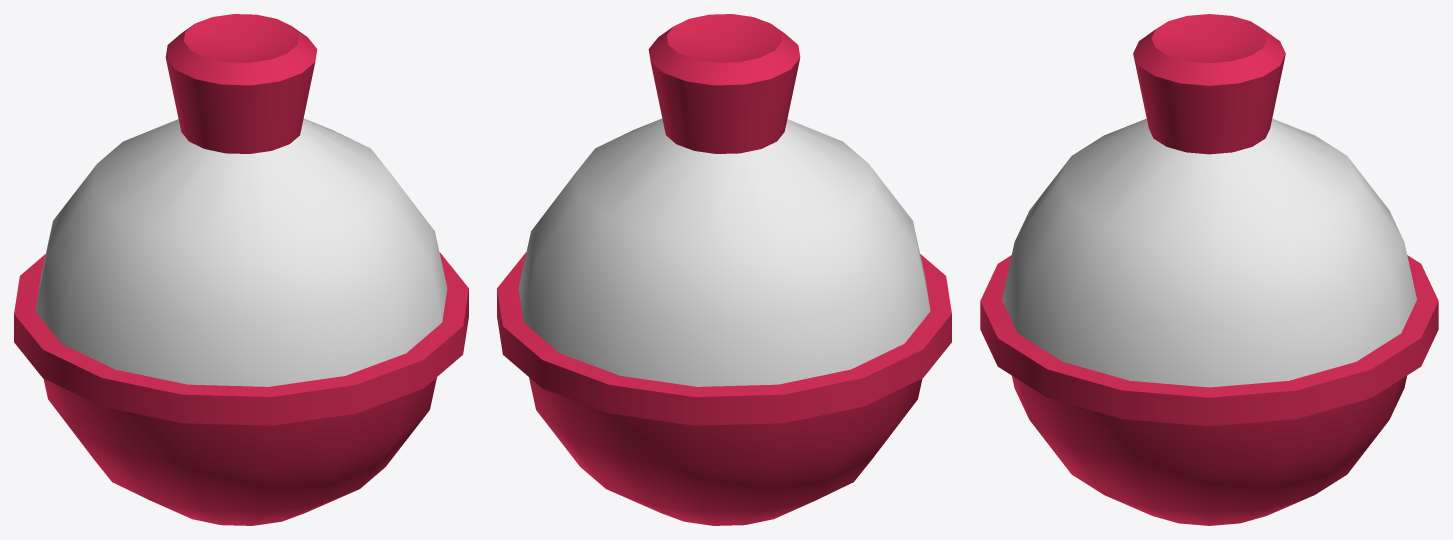
File: bobber.gltf.glb
The picture shows the model from 3 angles, left to right: view 1: azimuth 30°, elevation 25°; view 2: azimuth 150°, elevation 25°; view 3: azimuth 270°, elevation 25°; orthographic projection.
Visible parts, largest first — view 1: bobber; view 2: bobber; view 3: bobber.
Part boxes in pixels (bbox=[...]): bobber: bbox=[14, 14, 468, 525]; bobber: bbox=[497, 14, 951, 525]; bobber: bbox=[980, 14, 1438, 525].
Size of the model in its own units: 0.2178 by 0.2453 by 0.2178.
